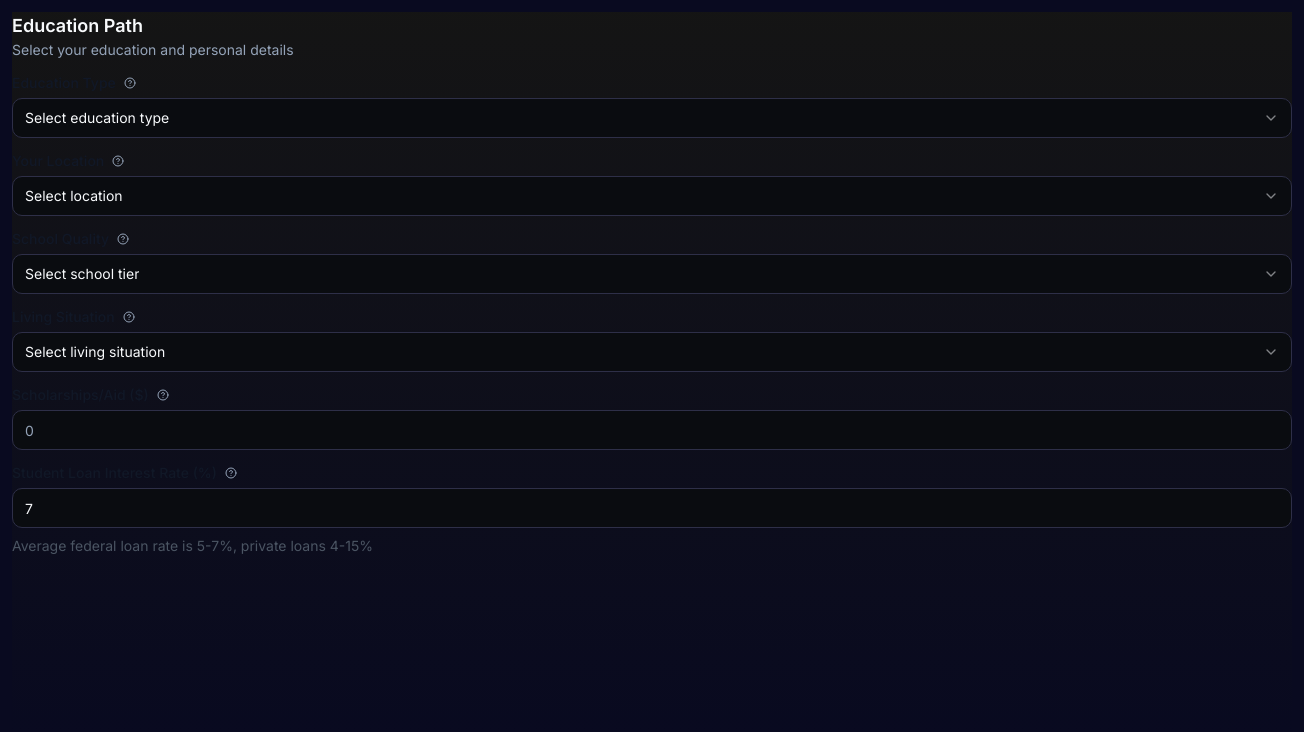
Test: PathBuilder Component › Education Type Selection › should show education type options when clicked
Click the dropdown "Select education type" at (97, 118), box [12, 98, 1292, 138]
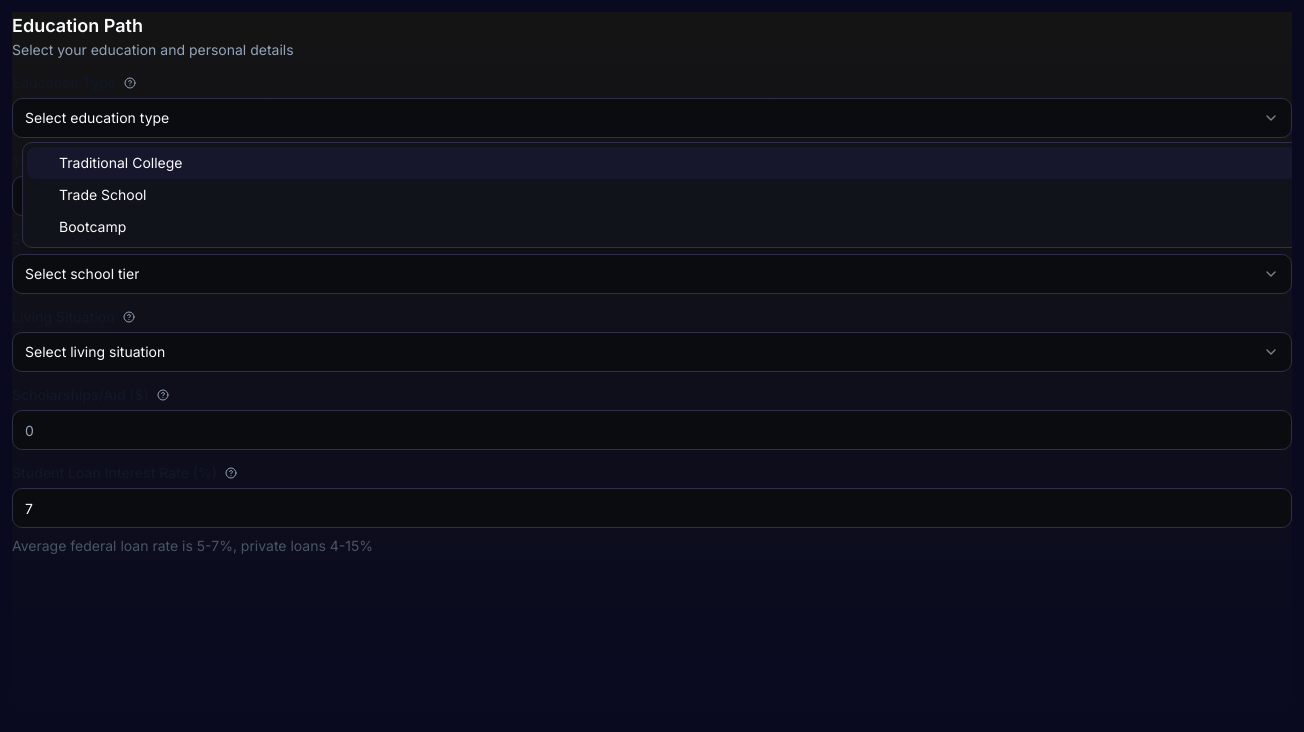
expect the text "Traditional College" is shown: met, box [59, 153, 182, 173]
expect the text "Trade School" is shown: met, box [59, 185, 146, 205]
expect the text "Bootcamp" is shown: met, box [59, 217, 126, 237]
